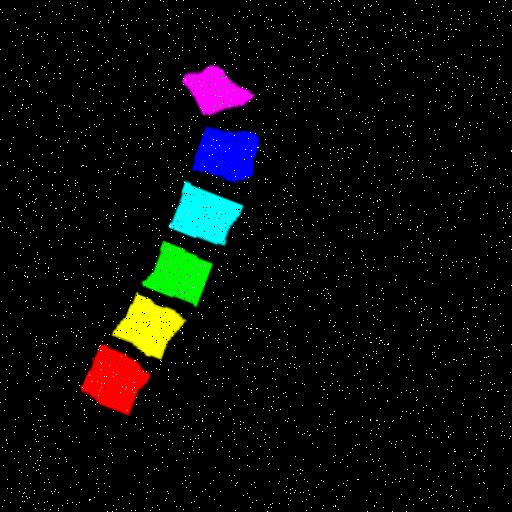L1: (79, 342, 149, 413)
L2: (112, 291, 183, 357)
L3: (141, 240, 212, 304)
L4: (167, 181, 242, 242)
L5: (191, 124, 258, 178)
S1: (181, 63, 253, 113)
